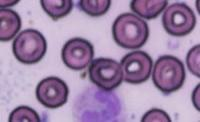N: (71, 84, 128, 120)
